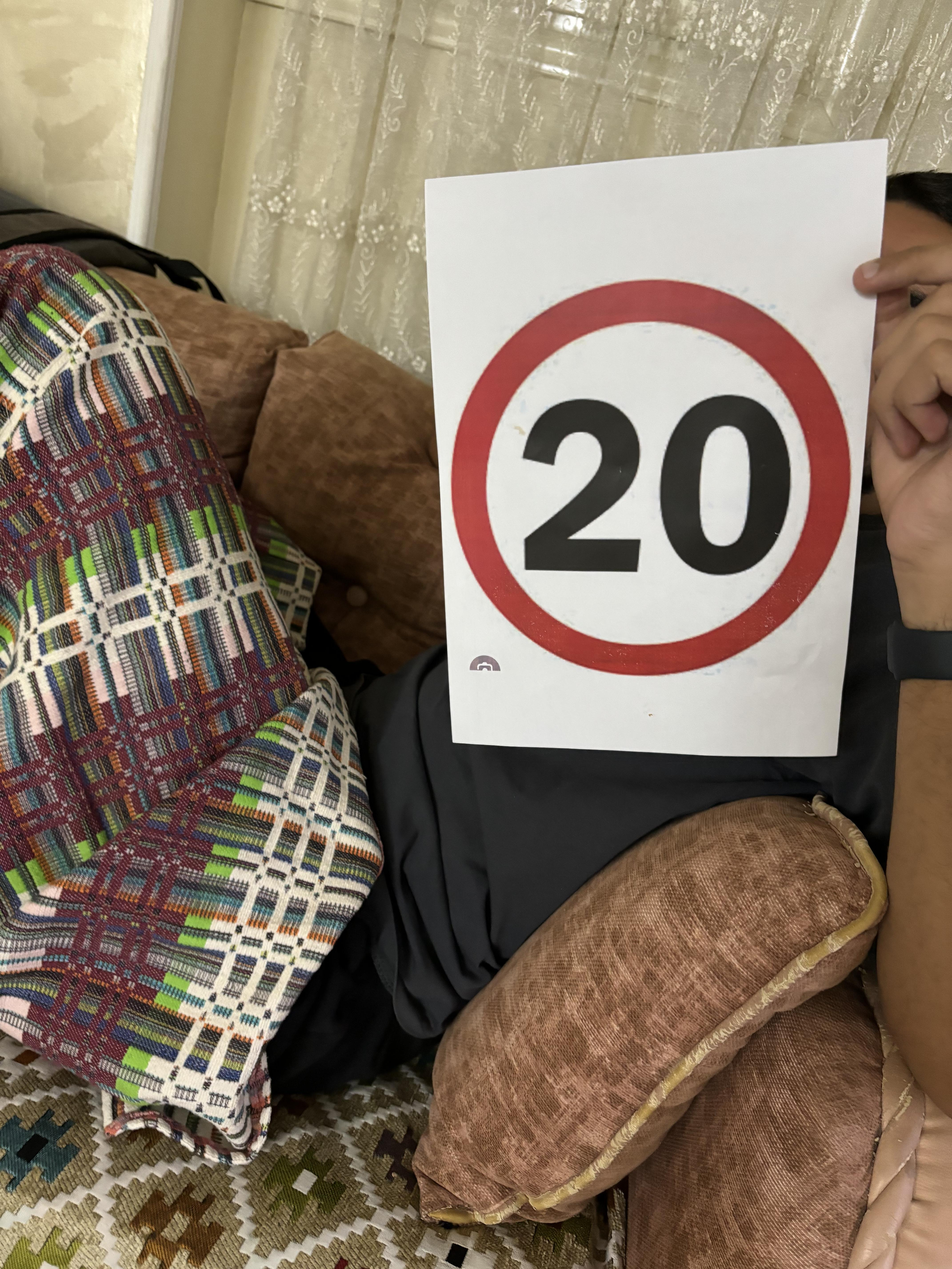20-Speed: (447, 274, 850, 664)
